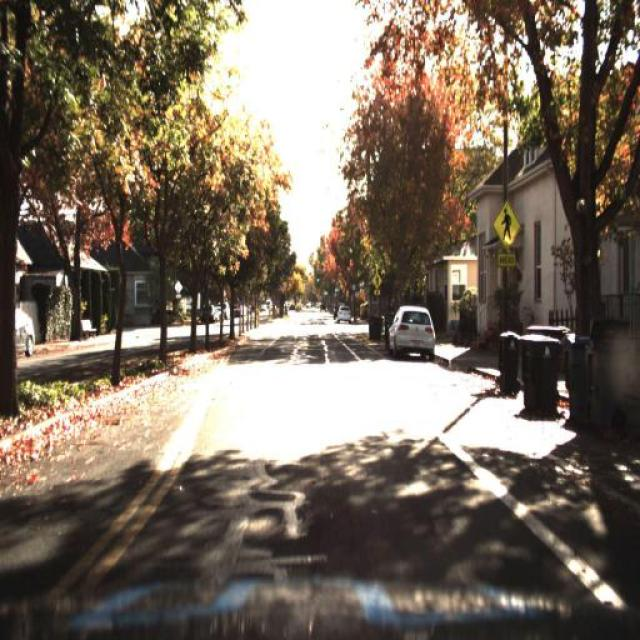car: (380, 300, 436, 359), (0, 307, 36, 354), (333, 302, 352, 326)
